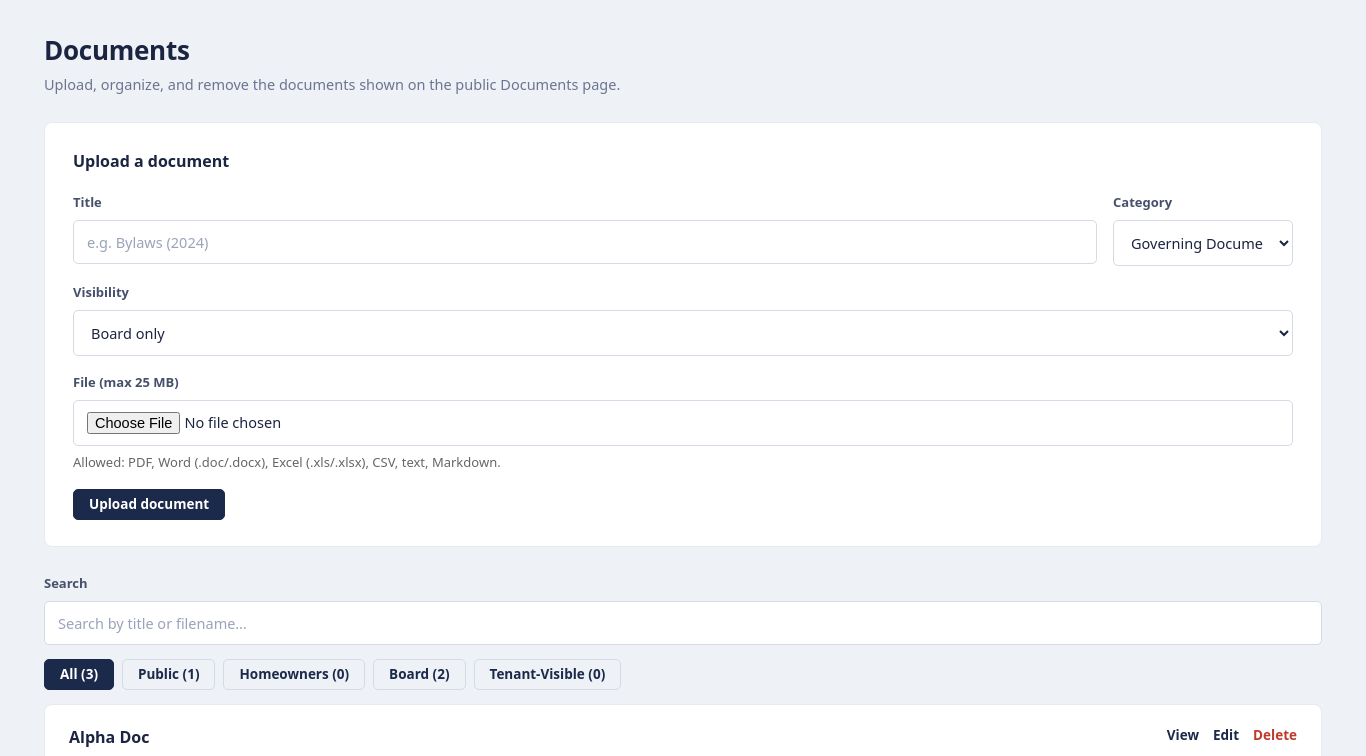
it: DocumentsManager visibility filter › shows an empty message when no documents match the selected tab
Expected: the text "Alpha Doc" is shown, 69,726 -> 149,748
Click the button "Homeowners (0)" at (294, 675), box 224,659 -> 365,690
(page scrolled)
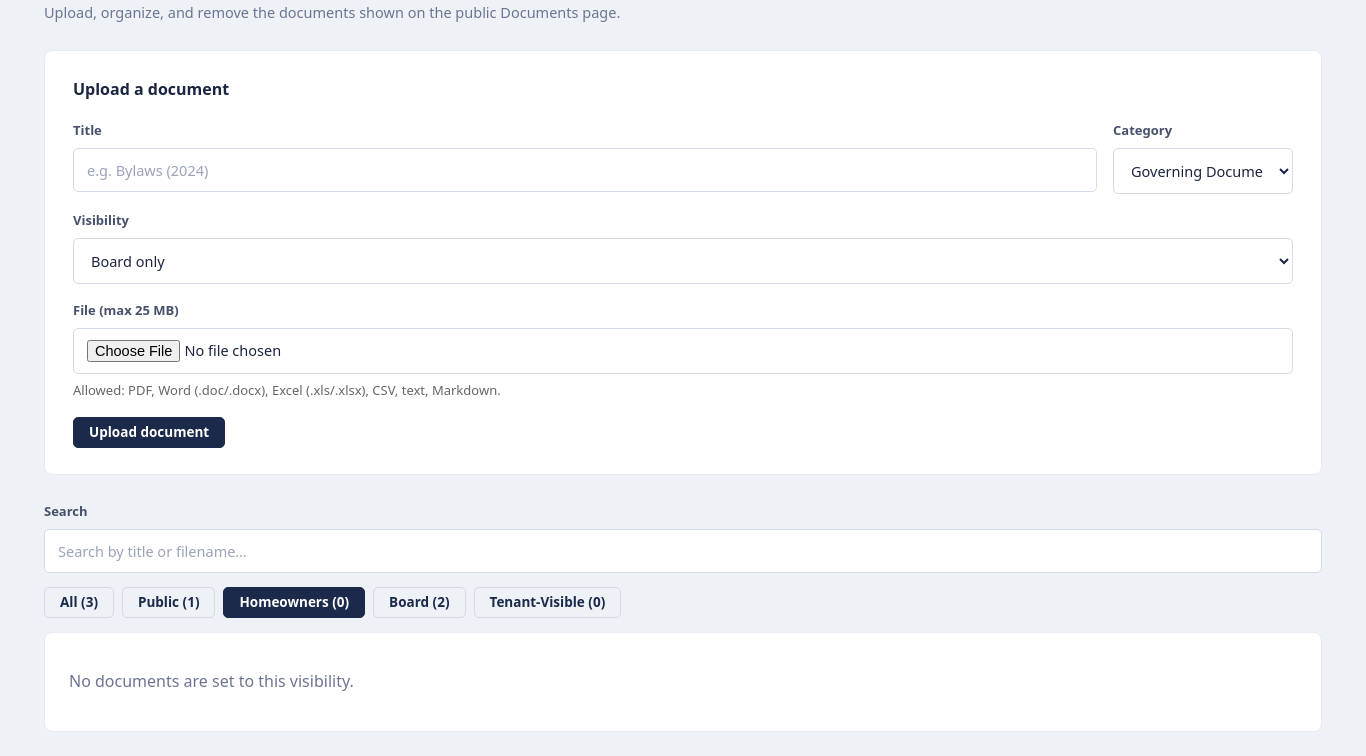
Result: the text "Alpha Doc" is gone
Result: the text "No documents are set to this visibility." is shown at 69,670 -> 354,692
